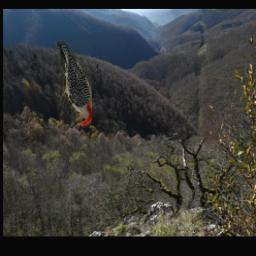Woodpecker: (55, 41, 92, 128)
